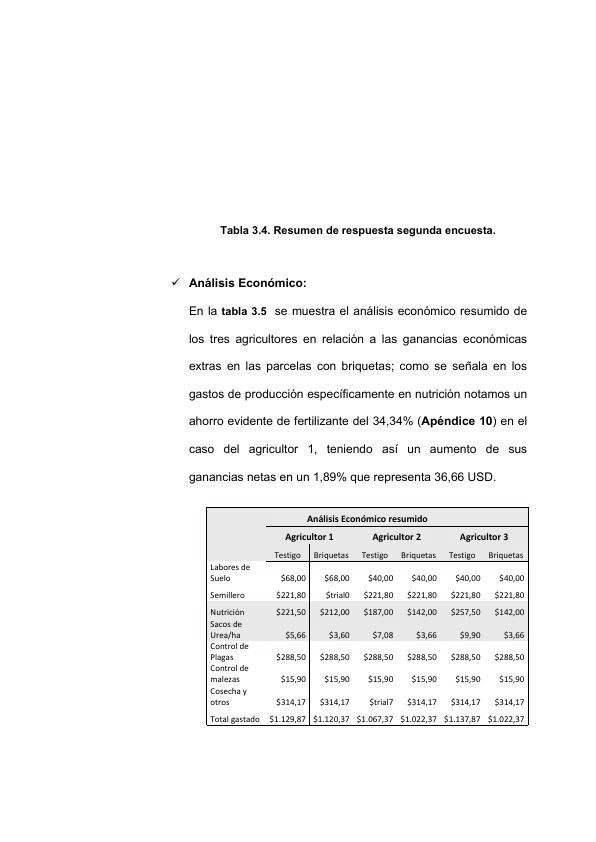table: (200, 500, 533, 734)
text: (185, 277, 532, 490), (211, 214, 501, 247)
